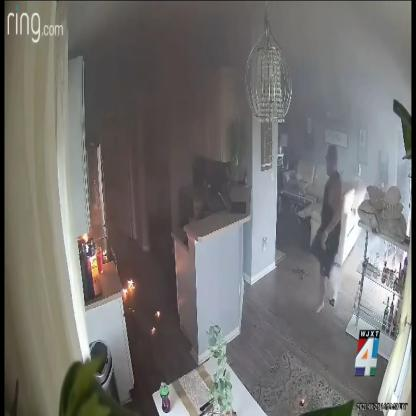fire: (122, 279, 135, 297), (155, 311, 160, 317), (152, 327, 155, 333)
